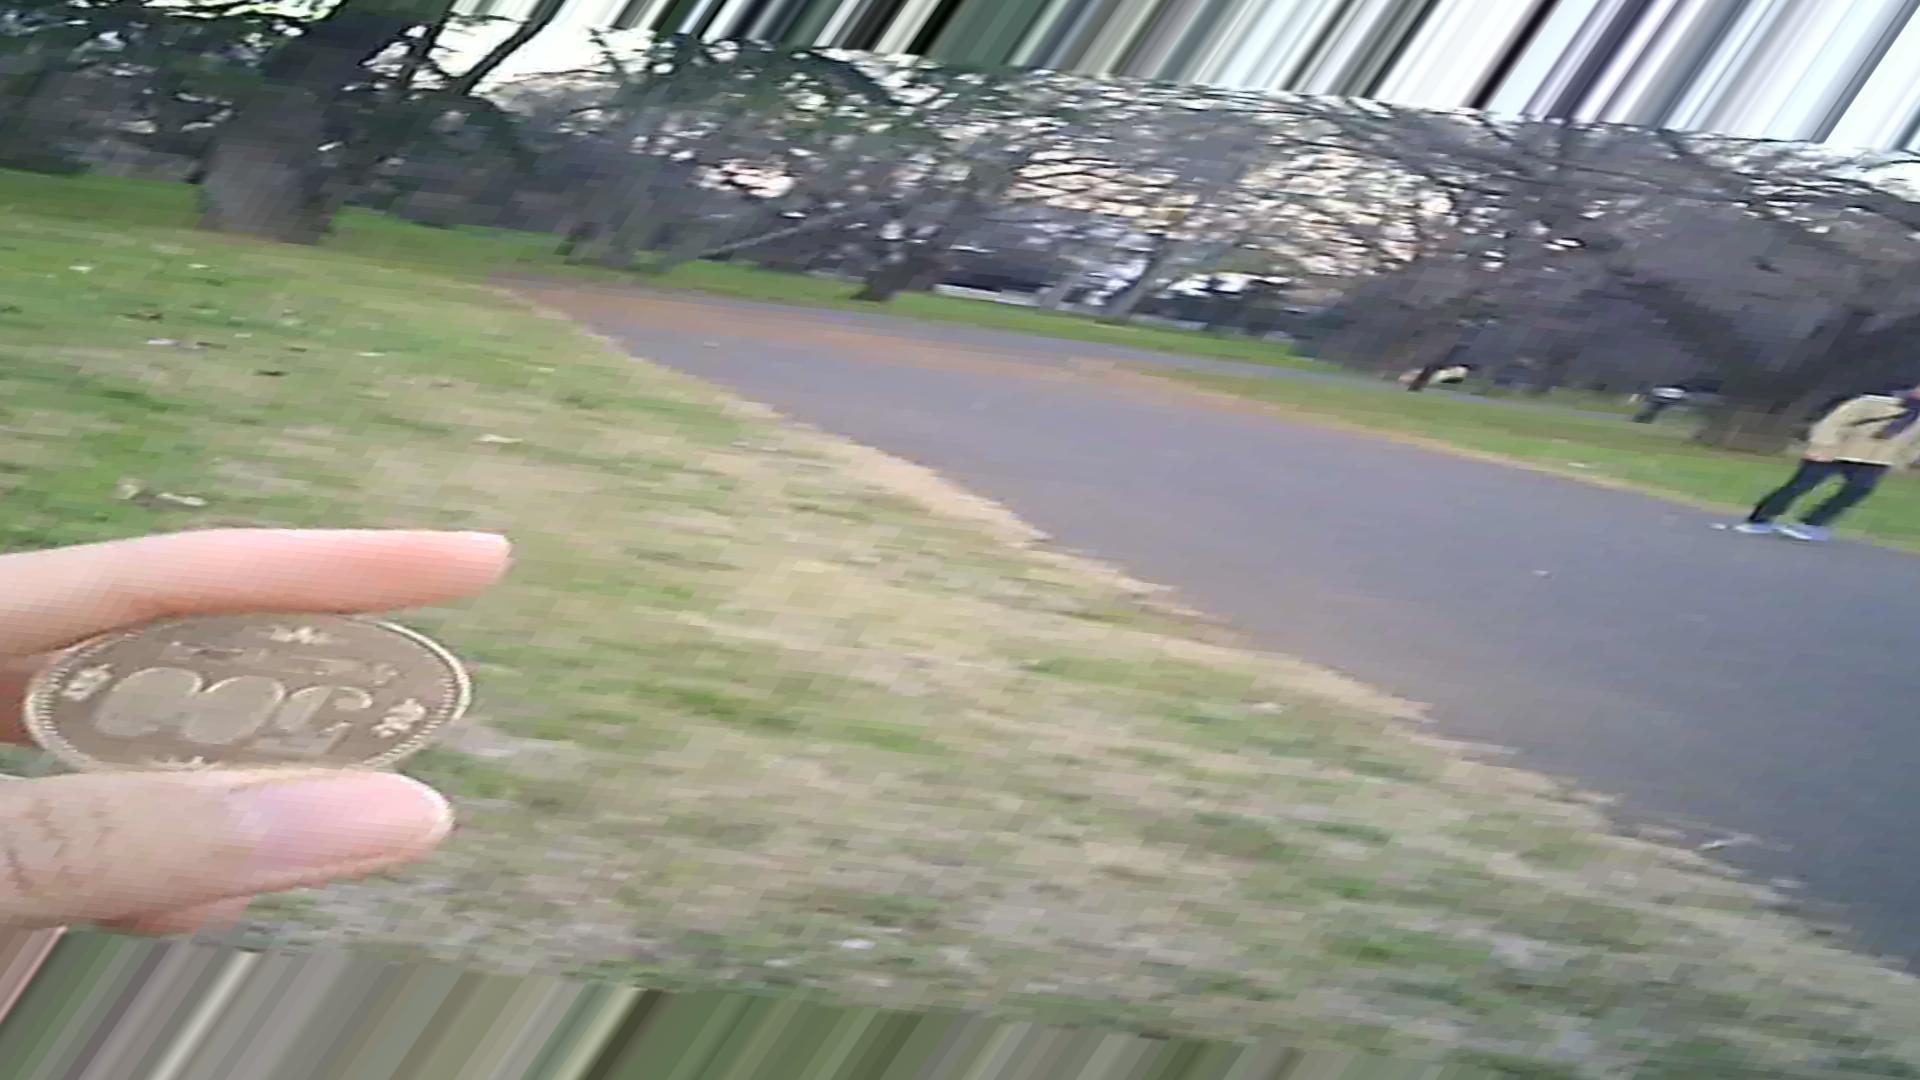500 Yen: (7, 597, 501, 774)
